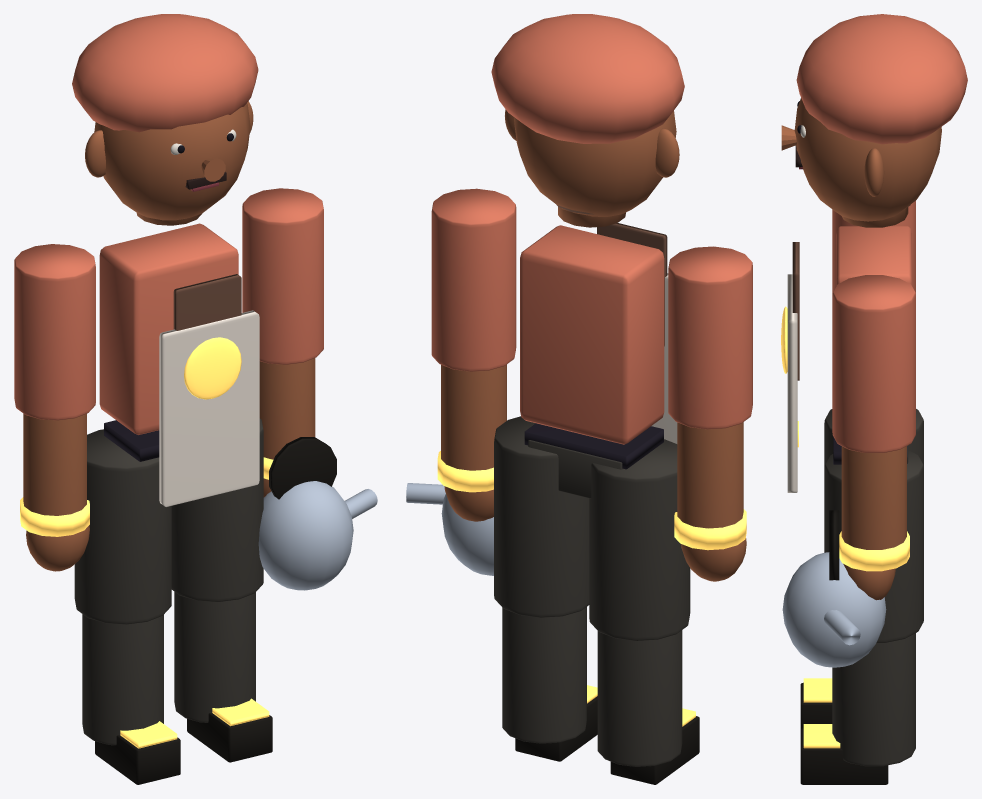
Rendered from char_chaiwala.glb.
The picture shows the model from 3 angles, left to right: view 1: azimuth 30°, elevation 25°; view 2: azimuth 150°, elevation 25°; view 3: azimuth 270°, elevation 25°; orthographic projection. The views are drawn at different scales.
Parts seen in each view (by area): view 1: Chaiwala_Turban, Chaiwala_Torso, Chaiwala_Apron, Chaiwala_Thigh_L, Chaiwala_Sleeve_L, Chaiwala_Sleeve_R, Chaiwala_Face, Chaiwala_Thigh_R, Chaiwala_Shin_L, Chaiwala_Shin_R, Chaiwala_Kettle_Body, Chaiwala_Forearm_L (+12 smaller); view 2: Chaiwala_Torso, Chaiwala_Turban, Chaiwala_Thigh_L, Chaiwala_Thigh_R, Chaiwala_Sleeve_R, Chaiwala_Sleeve_L, Chaiwala_Shin_L, Chaiwala_Shin_R, Chaiwala_Face, Chaiwala_Forearm_L, Chaiwala_Forearm_R, Chaiwala_Belt (+13 smaller); view 3: Chaiwala_Turban, Chaiwala_Sleeve_R, Chaiwala_Face, Chaiwala_Shin_R, Chaiwala_Kettle_Body, Chaiwala_Forearm_R, Chaiwala_Thigh_R, Chaiwala_Torso, Chaiwala_Shoe_R, Chaiwala_Apron, Chaiwala_Wrist_R, Chaiwala_Sleeve_L (+11 smaller).
Boxes of the visible parts, bbox=[...] form: Chaiwala_Turban: bbox=[72, 14, 258, 132]; Chaiwala_Torso: bbox=[99, 223, 238, 434]; Chaiwala_Apron: bbox=[159, 310, 259, 506]; Chaiwala_Thigh_L: bbox=[74, 429, 171, 624]; Chaiwala_Sleeve_L: bbox=[14, 244, 95, 420]; Chaiwala_Sleeve_R: bbox=[242, 188, 323, 364]; Chaiwala_Face: bbox=[94, 103, 250, 220]; Chaiwala_Thigh_R: bbox=[171, 418, 263, 601]; Chaiwala_Shin_L: bbox=[82, 614, 163, 745]; Chaiwala_Shin_R: bbox=[174, 592, 255, 722]; Chaiwala_Kettle_Body: bbox=[258, 481, 353, 590]; Chaiwala_Forearm_L: bbox=[23, 413, 86, 515]; Chaiwala_Torso: bbox=[520, 225, 664, 444]; Chaiwala_Turban: bbox=[491, 14, 684, 143]; Chaiwala_Thigh_L: bbox=[589, 439, 690, 640]; Chaiwala_Thigh_R: bbox=[494, 416, 589, 617]; Chaiwala_Sleeve_R: bbox=[431, 188, 516, 371]; Chaiwala_Sleeve_L: bbox=[668, 246, 752, 429]; Chaiwala_Shin_L: bbox=[597, 630, 682, 766]; Chaiwala_Shin_R: bbox=[502, 607, 586, 743]; Chaiwala_Face: bbox=[514, 111, 676, 216]; Chaiwala_Forearm_L: bbox=[677, 422, 743, 528]; Chaiwala_Forearm_R: bbox=[441, 364, 506, 470]; Chaiwala_Belt: bbox=[524, 423, 663, 469]; Chaiwala_Turban: bbox=[796, 14, 967, 144]; Chaiwala_Sleeve_R: bbox=[832, 275, 915, 452]; Chaiwala_Face: bbox=[794, 98, 941, 221]; Chaiwala_Shin_R: bbox=[832, 633, 915, 766]; Chaiwala_Kettle_Body: bbox=[782, 552, 886, 667]; Chaiwala_Forearm_R: bbox=[841, 446, 906, 549]; Chaiwala_Thigh_R: bbox=[824, 450, 923, 642]; Chaiwala_Torso: bbox=[836, 226, 911, 285]; Chaiwala_Shoe_R: bbox=[800, 728, 888, 784]; Chaiwala_Apron: bbox=[787, 274, 797, 492]; Chaiwala_Wrist_R: bbox=[839, 531, 909, 571]; Chaiwala_Sleeve_L: bbox=[832, 201, 915, 294].
Bounding box in the file's own units: 1 × 2 × 0.469.
